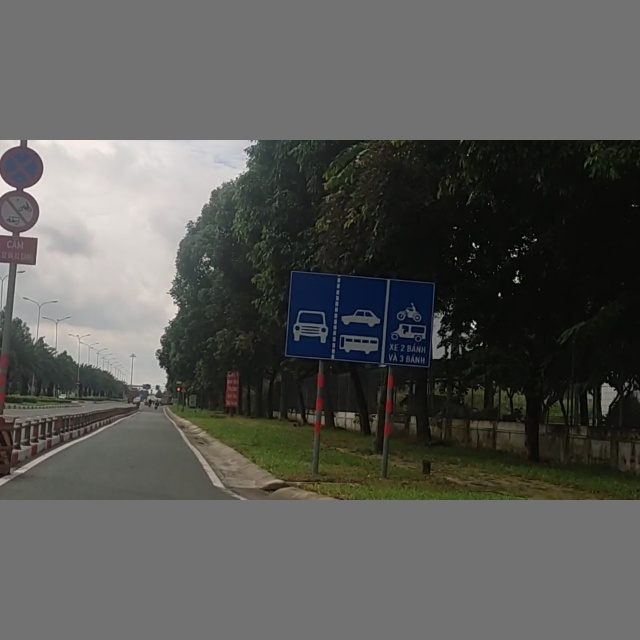P.130: (1, 147, 45, 190)
R.415a: (283, 271, 435, 365)
